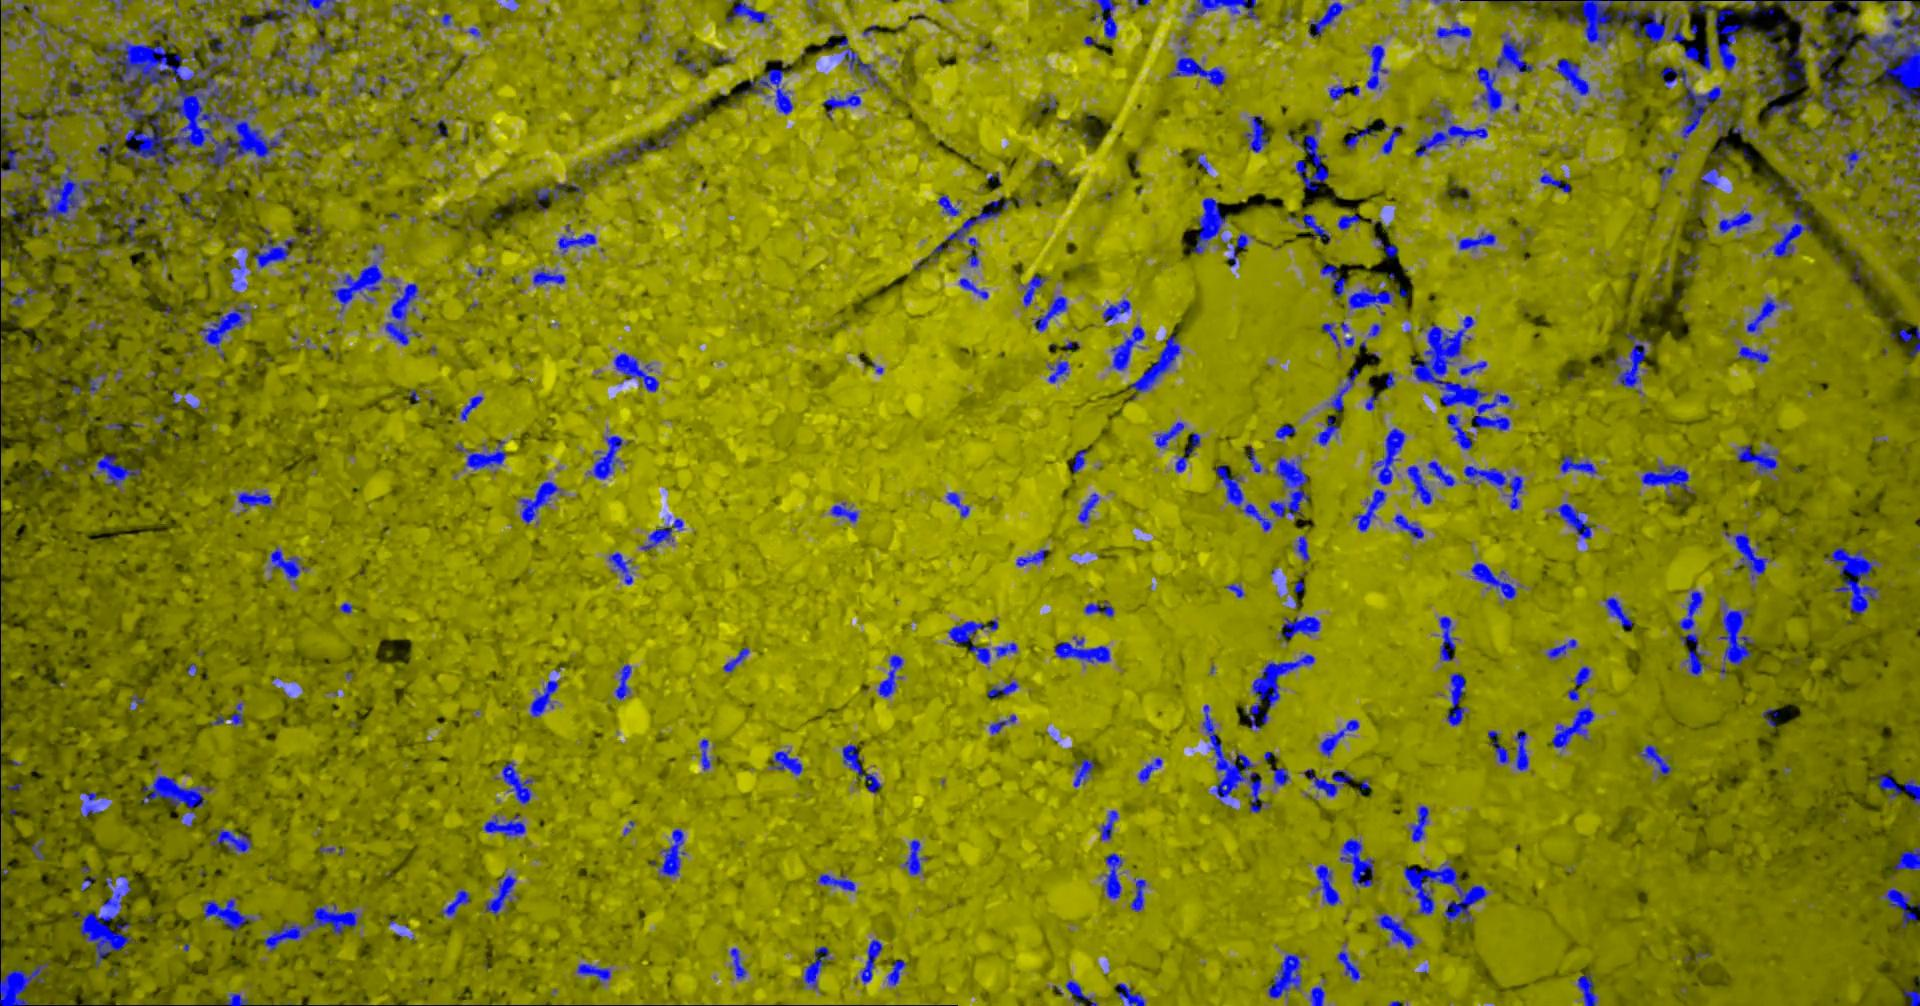ant: (1757, 23, 1808, 102), (1217, 464, 1274, 531), (1416, 105, 1490, 158), (607, 121, 681, 166), (199, 301, 253, 359), (1716, 4, 1761, 71), (1130, 334, 1182, 392), (833, 32, 888, 86), (737, 62, 794, 114), (331, 260, 383, 312), (1465, 465, 1525, 509), (1679, 589, 1709, 674), (1297, 119, 1330, 191), (949, 619, 1001, 663), (386, 283, 423, 345), (1613, 332, 1653, 387), (1726, 531, 1771, 579), (947, 207, 1002, 246), (1, 960, 50, 1005), (1770, 207, 1813, 257), (1191, 197, 1229, 253), (1170, 50, 1227, 86), (204, 897, 257, 935), (843, 743, 883, 793), (1374, 427, 1407, 484), (521, 481, 564, 523), (1553, 706, 1596, 748), (255, 229, 301, 268), (615, 352, 660, 391), (1873, 768, 1920, 807), (1879, 885, 1920, 927), (590, 434, 629, 479), (1472, 561, 1517, 598), (23, 126, 58, 173), (1341, 838, 1375, 887), (1497, 33, 1539, 72), (268, 66, 321, 97), (1269, 953, 1303, 998), (1112, 324, 1145, 370), (97, 453, 142, 486), (1321, 719, 1360, 757), (533, 182, 584, 211), (457, 439, 508, 469), (1378, 912, 1418, 948), (1354, 489, 1388, 531), (486, 873, 521, 915), (1057, 638, 1111, 663), (641, 518, 684, 550), (1310, 0, 1347, 37), (1554, 58, 1591, 95), (272, 546, 309, 583), (1189, 0, 1260, 19), (804, 945, 834, 989), (1305, 768, 1354, 796), (1328, 368, 1360, 410), (503, 761, 535, 803), (1642, 465, 1691, 492), (660, 828, 687, 876), (1558, 503, 1592, 540), (105, 207, 138, 244), (1035, 295, 1068, 332), (1749, 296, 1782, 332), (1738, 445, 1780, 473), (1478, 66, 1503, 112), (178, 187, 208, 224), (1280, 615, 1322, 641), (879, 654, 905, 696), (1769, 93, 1817, 116), (1176, 432, 1203, 473), (531, 680, 560, 716), (24, 3, 50, 44), (824, 90, 862, 118), (211, 828, 253, 854), (728, 0, 772, 23), (1448, 672, 1467, 725), (1349, 286, 1396, 307), (1639, 744, 1674, 774), (1093, 0, 1119, 39), (1, 140, 28, 177), (1317, 864, 1341, 904), (1368, 44, 1389, 89), (862, 939, 884, 983), (1410, 465, 1434, 504), (1321, 263, 1347, 298), (1448, 413, 1474, 448), (484, 814, 527, 836), (352, 66, 382, 97), (1103, 852, 1124, 898), (1605, 596, 1634, 627), (1246, 116, 1270, 152), (1773, 0, 1813, 22), (1440, 615, 1459, 661), (905, 840, 930, 875), (1891, 326, 1920, 356), (1719, 210, 1756, 232), (1338, 945, 1361, 982), (1229, 232, 1255, 265), (1022, 273, 1048, 306), (1347, 122, 1377, 150), (1304, 213, 1332, 243), (1156, 420, 1185, 448), (442, 888, 471, 916), (772, 749, 804, 775), (610, 551, 634, 584), (1065, 981, 1098, 1005), (211, 702, 245, 725), (559, 232, 597, 253), (1429, 460, 1457, 486), (1490, 729, 1511, 763), (1685, 44, 1713, 70), (1396, 514, 1425, 539), (1460, 231, 1497, 250), (1561, 455, 1597, 474), (1845, 145, 1868, 175), (140, 185, 160, 220), (578, 963, 612, 983), (239, 492, 274, 511), (724, 647, 750, 672), (1411, 805, 1430, 841), (1318, 417, 1342, 445), (1738, 344, 1771, 365), (1578, 972, 1599, 1005), (960, 277, 990, 298), (819, 873, 856, 890), (1139, 757, 1164, 782), (1702, 163, 1724, 191), (1103, 298, 1131, 321), (1073, 758, 1096, 786), (1437, 22, 1473, 39), (1117, 983, 1147, 1005), (1079, 492, 1100, 522), (1548, 638, 1578, 658), (947, 492, 971, 517), (1383, 124, 1404, 152), (1322, 323, 1342, 352), (1100, 810, 1120, 840), (1, 6, 19, 39), (535, 267, 568, 285), (1542, 173, 1572, 192), (462, 395, 485, 420), (81, 791, 104, 817), (1895, 847, 1920, 870), (1516, 729, 1530, 770), (616, 664, 632, 699), (1017, 549, 1049, 567), (988, 681, 1020, 699), (1, 99, 17, 135), (832, 502, 858, 522), (990, 714, 1018, 733), (1049, 359, 1070, 384), (888, 959, 908, 984), (83, 77, 113, 94), (1131, 878, 1147, 911), (731, 948, 748, 978), (1747, 0, 1775, 18), (938, 194, 963, 215), (311, 36, 337, 55), (1377, 238, 1399, 258), (1084, 601, 1115, 616), (923, 243, 949, 260), (1271, 763, 1291, 785), (98, 138, 121, 158), (1671, 17, 1688, 42), (1247, 447, 1263, 473), (1677, 255, 1698, 276), (270, 46, 293, 64), (1460, 361, 1488, 375), (83, 865, 98, 890), (1073, 450, 1090, 473), (221, 258, 248, 272), (1297, 535, 1310, 561), (701, 738, 712, 770), (711, 47, 734, 62), (1338, 213, 1361, 229), (430, 119, 450, 137), (1575, 666, 1592, 685), (1686, 0, 1716, 11), (996, 641, 1018, 655), (1763, 708, 1779, 727), (151, 19, 171, 34), (1310, 984, 1326, 1005), (1851, 260, 1863, 287), (1276, 424, 1297, 438), (226, 993, 250, 1005), (131, 694, 147, 710), (1330, 85, 1347, 100), (988, 199, 1015, 210), (1763, 37, 1782, 51), (1227, 583, 1246, 597), (1662, 164, 1675, 184), (33, 838, 46, 859), (1903, 989, 1920, 1005), (1822, 0, 1839, 14), (1366, 394, 1380, 410), (436, 13, 453, 25), (1040, 98, 1057, 111), (968, 249, 980, 265), (686, 61, 703, 72), (47, 85, 61, 99), (89, 377, 102, 392), (1385, 371, 1397, 387), (676, 48, 690, 61), (1369, 323, 1382, 337), (110, 0, 124, 11), (11, 293, 25, 305), (342, 602, 354, 614), (1570, 688, 1581, 700), (1, 883, 3, 940)
